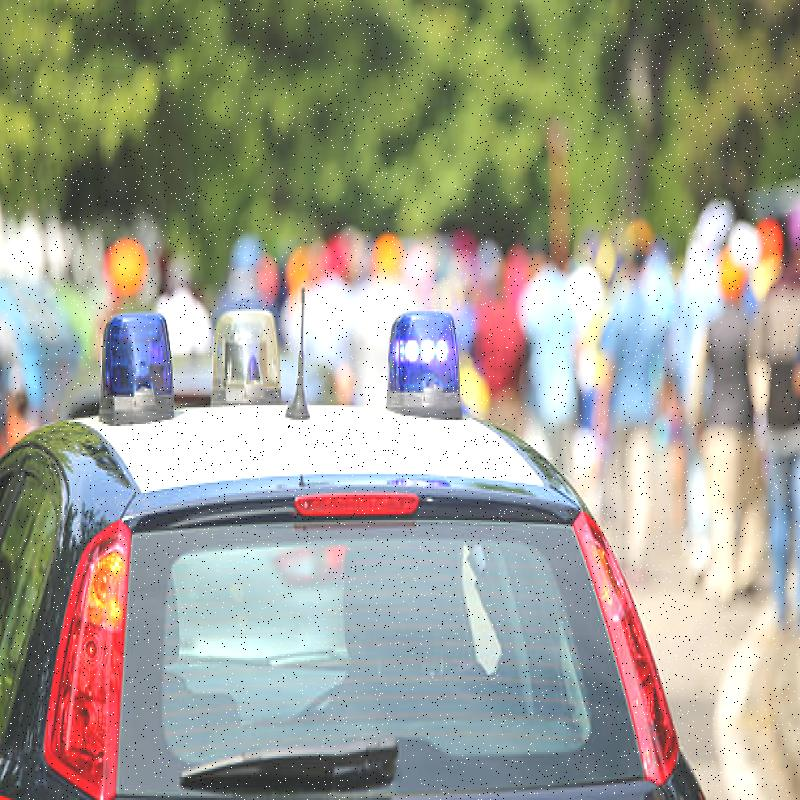AmbulanceSiren: (86, 288, 187, 436), (369, 303, 462, 430), (202, 294, 290, 418)
